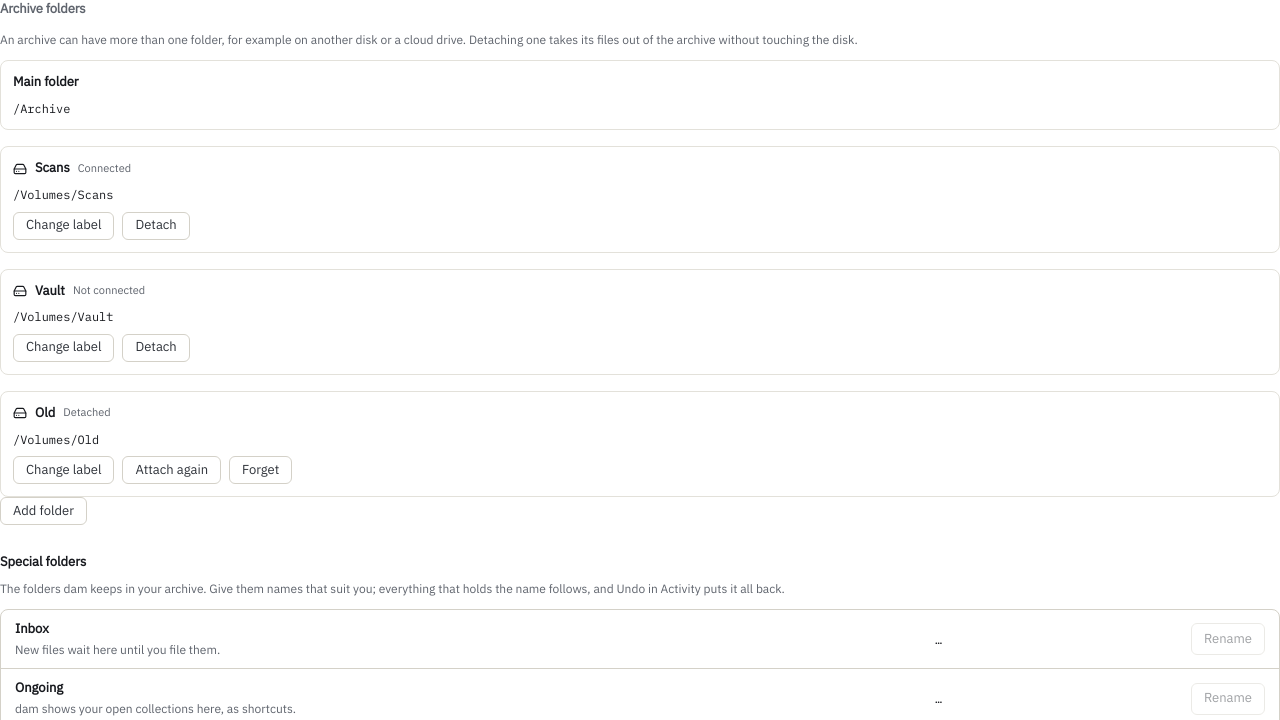
Scenario: Archive folders settings › Detach and forget says when it forgets more files than the list shows
Click the button "Detach" below "/Volumes/Scans" at (156, 226), box [122, 212, 190, 240]
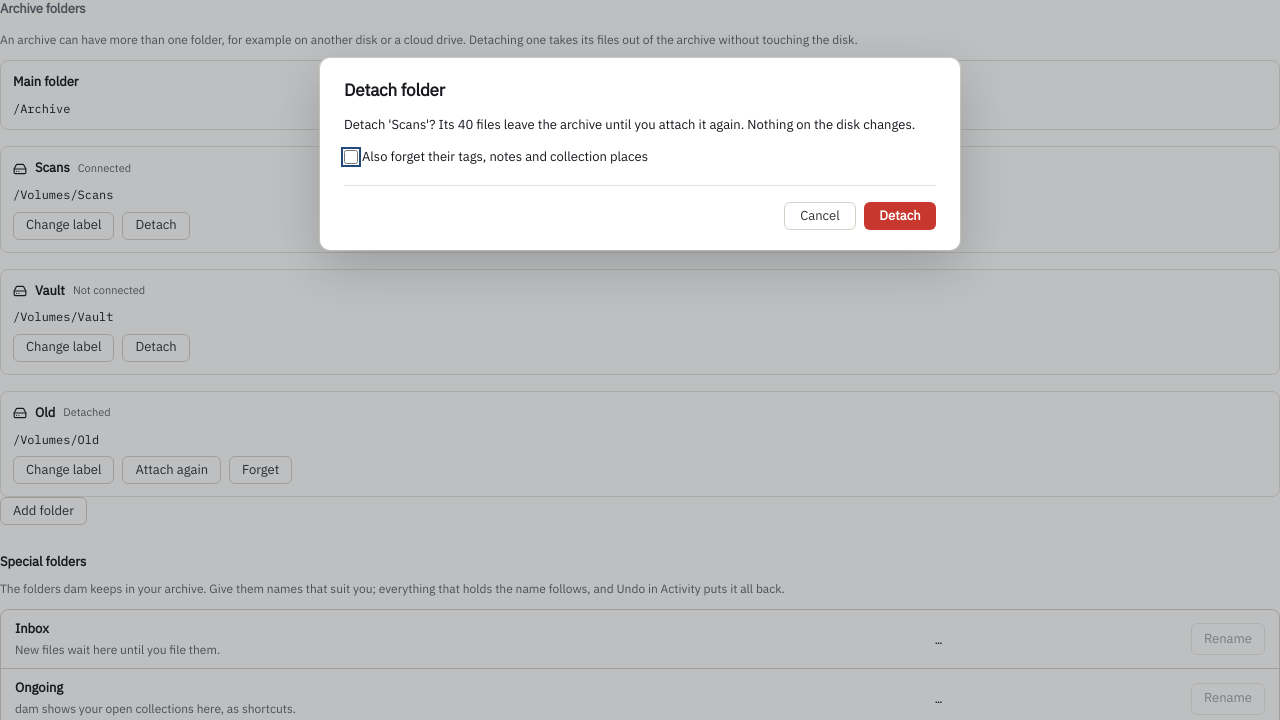
Click the checkbox labelled "Also forget their tags, notes and collection places" at (351, 157), box [344, 150, 358, 164]
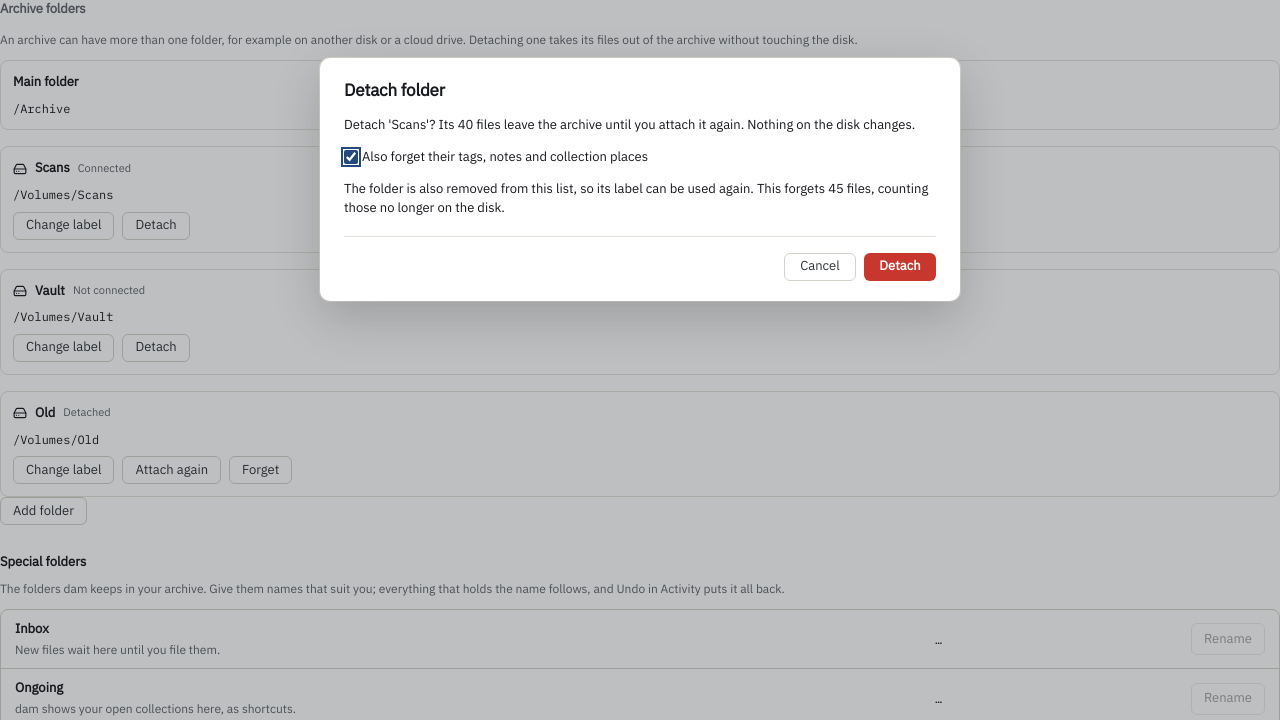
Check: the text "This forgets 45 files, counting those no longer on the disk." is shown, box [344, 180, 928, 216]
